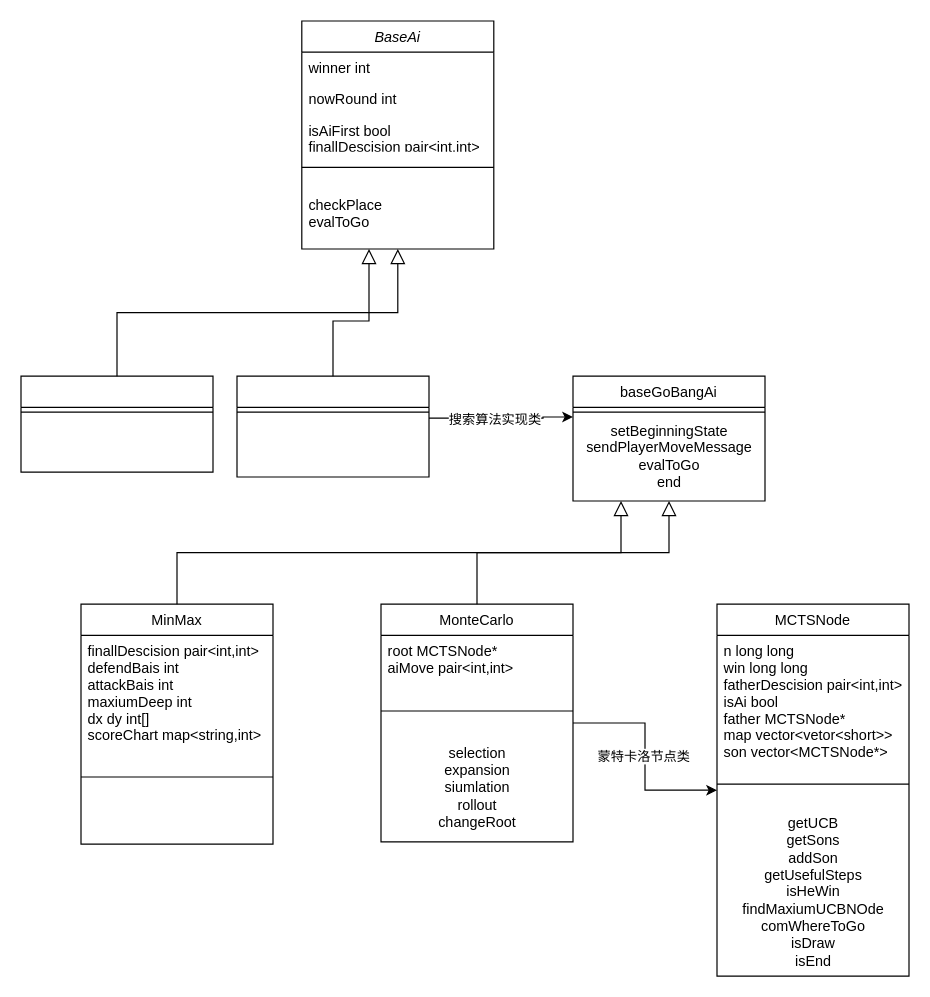
Some shapes in this 930 by 997 pixel diagram are drawn without their labels. Here are the shapes that lost their labels. From the top down, the centre of each, then its label:
[116,423]: TicTacToe
[332,426]: GoBang
